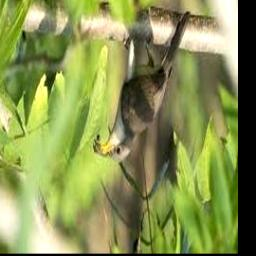Cuckoo: (95, 12, 191, 161)
